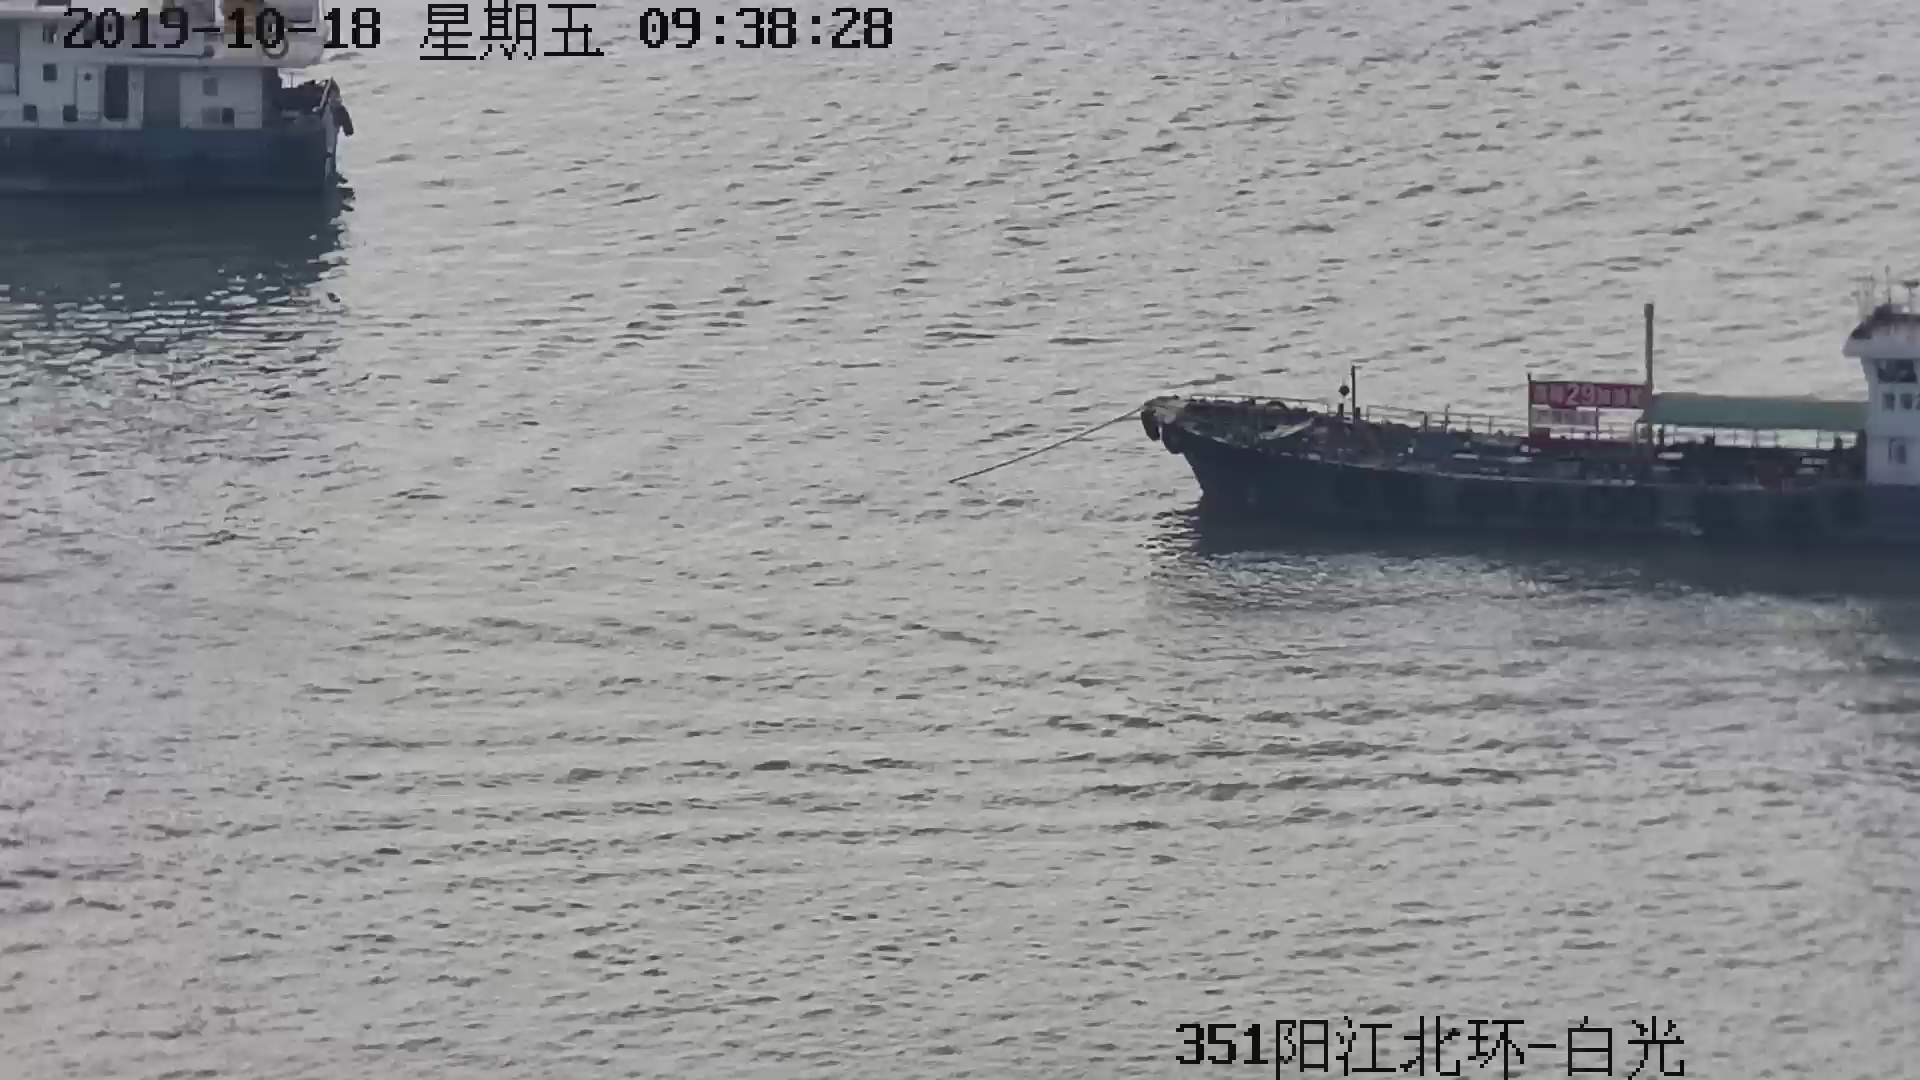ship: (1141, 305, 1920, 563), (1, 1, 348, 244)
